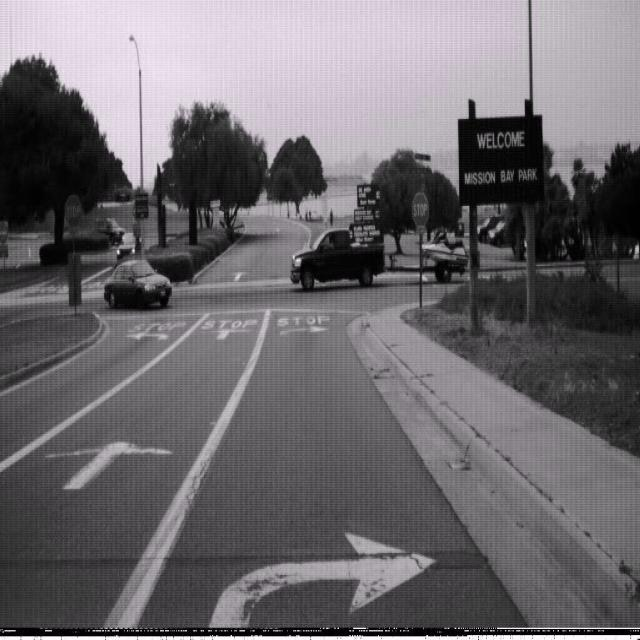stop_sign: (410, 192, 430, 230), (63, 192, 82, 230)
